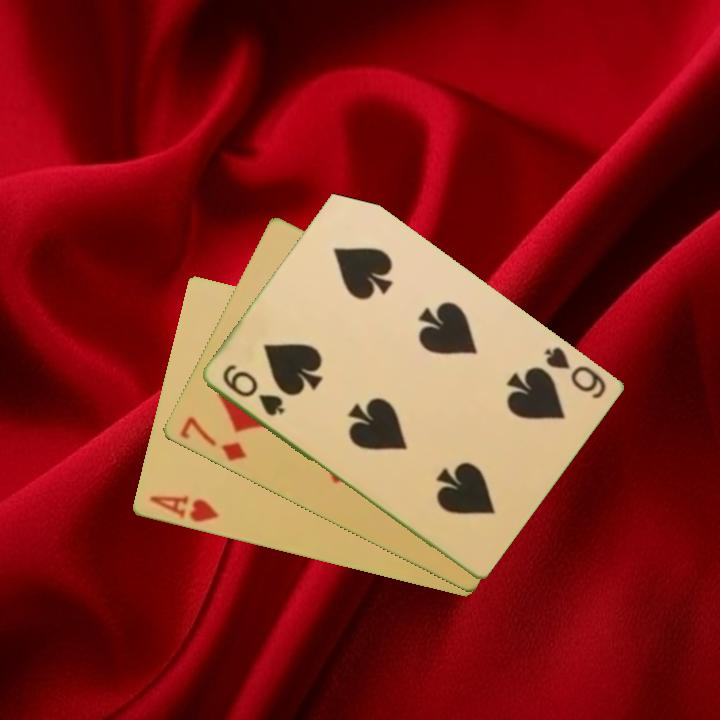6s: (218, 360, 287, 420), (540, 343, 609, 403)
7d: (176, 413, 249, 465)
Ah: (145, 492, 221, 526)
